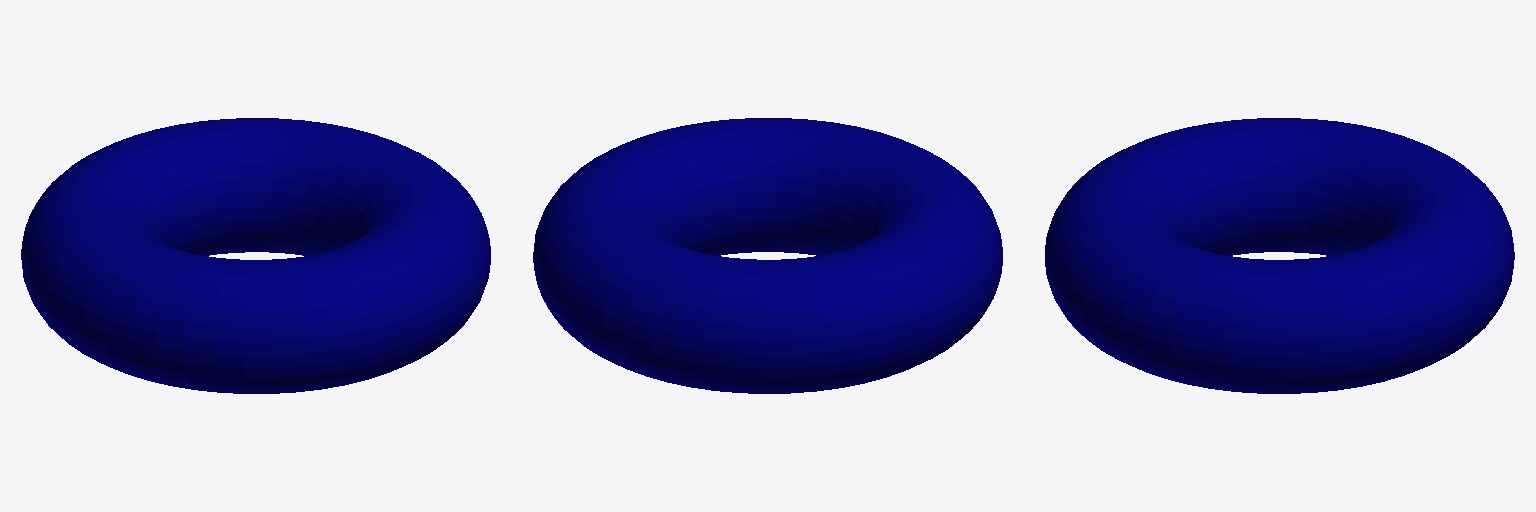
File: torusHIGH.obj
3 renders of one model, left to right at view 1: azimuth 30°, elevation 25°; view 2: azimuth 150°, elevation 25°; view 3: azimuth 270°, elevation 25°, orthographic.
Visible parts, largest first — view 1: Torus001; view 2: Torus001; view 3: Torus001.
Part boxes in pixels (left/top/right/bottom): Torus001: left=21, top=118, right=490, bottom=393; Torus001: left=533, top=118, right=1002, bottom=393; Torus001: left=1045, top=118, right=1514, bottom=393.
Bounding box in the file's own units: 11.02 × 3.15 × 11.01.